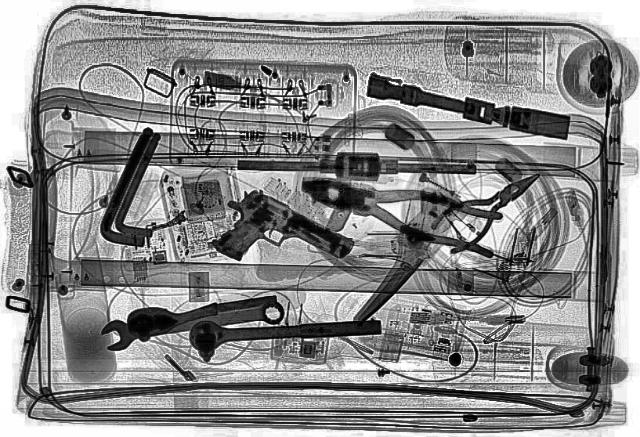Gun: (183, 184, 359, 292)
Pliers: (284, 158, 522, 258), (412, 160, 562, 256)
Wrench: (96, 296, 288, 352)
